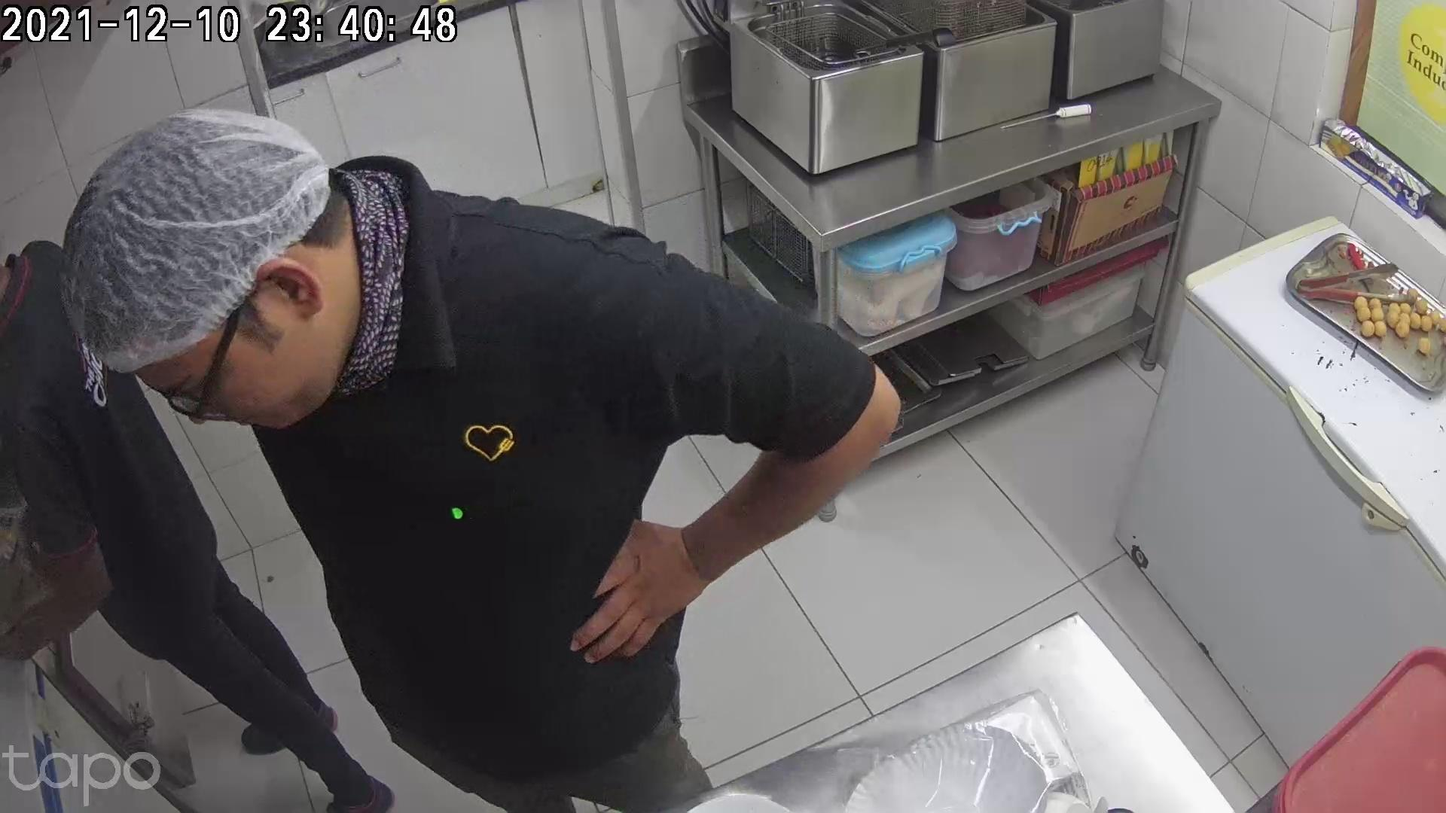no_gloves: (394, 597, 483, 721)
